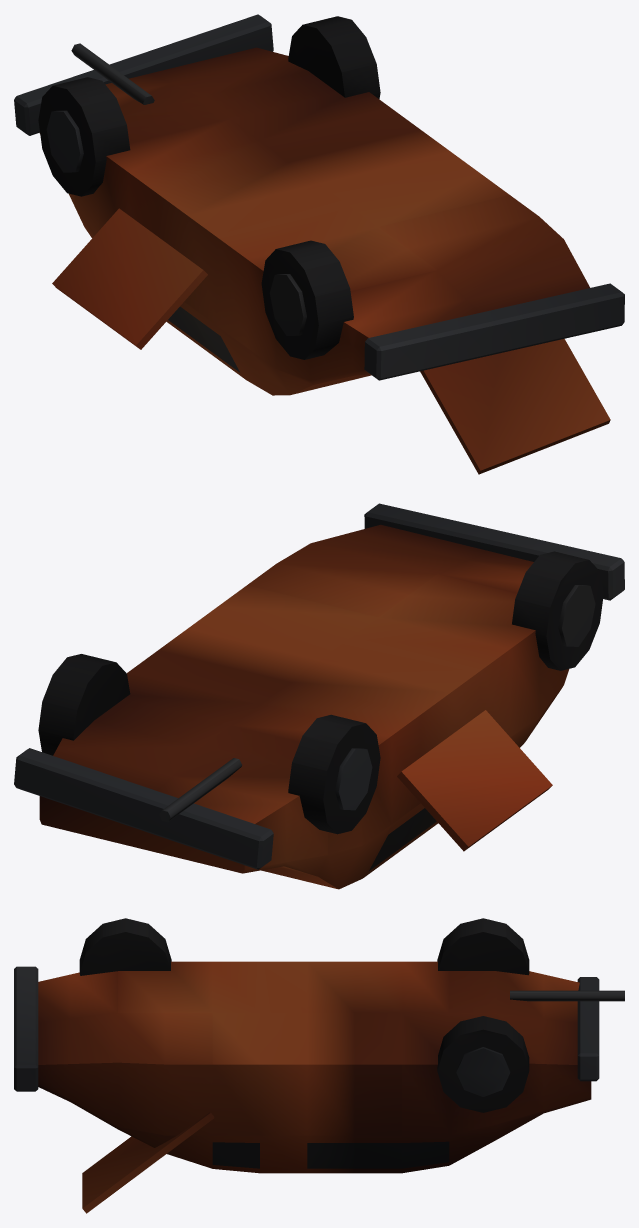
File: wreck_flipped.glb
3 views of the same model, one above another, from view 1: azimuth 30°, elevation 25°; view 2: azimuth 150°, elevation 25°; view 3: azimuth 270°, elevation 25° (orthographic). The views are drawn at different scales.
Parts seen in each view (by area): view 1: rust, metal_dark, rubber; view 2: rust, metal_dark, rubber; view 3: rust, metal_dark, rubber.
Boxes of the visible parts, box(x1,y1,x2,y2) form: rust: box(39, 47, 610, 474); metal_dark: box(14, 14, 624, 380); rubber: box(38, 16, 380, 359); rust: box(39, 524, 569, 889); metal_dark: box(14, 503, 624, 870); rubber: box(38, 551, 603, 834); rust: box(38, 961, 591, 1213); metal_dark: box(14, 966, 624, 1168); rubber: box(79, 918, 529, 1112).
Size of what is drawn, in the model's own units: 2.47 by 1.6 by 4.52.
